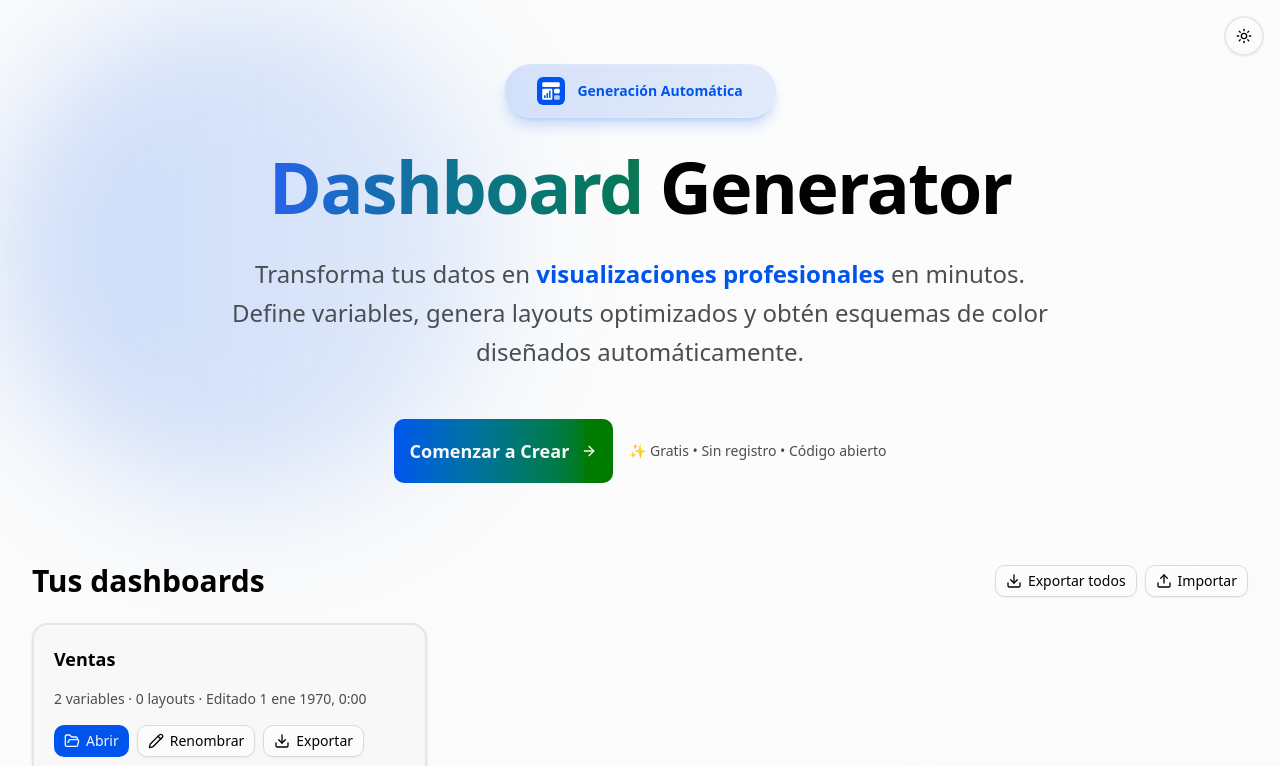
it: saved dashboards on the landing › opens a saved dashboard in the builder
Click the button with aria-label "Abrir Ventas" at (91, 741), box x1=54 y1=725 x2=129 y2=757
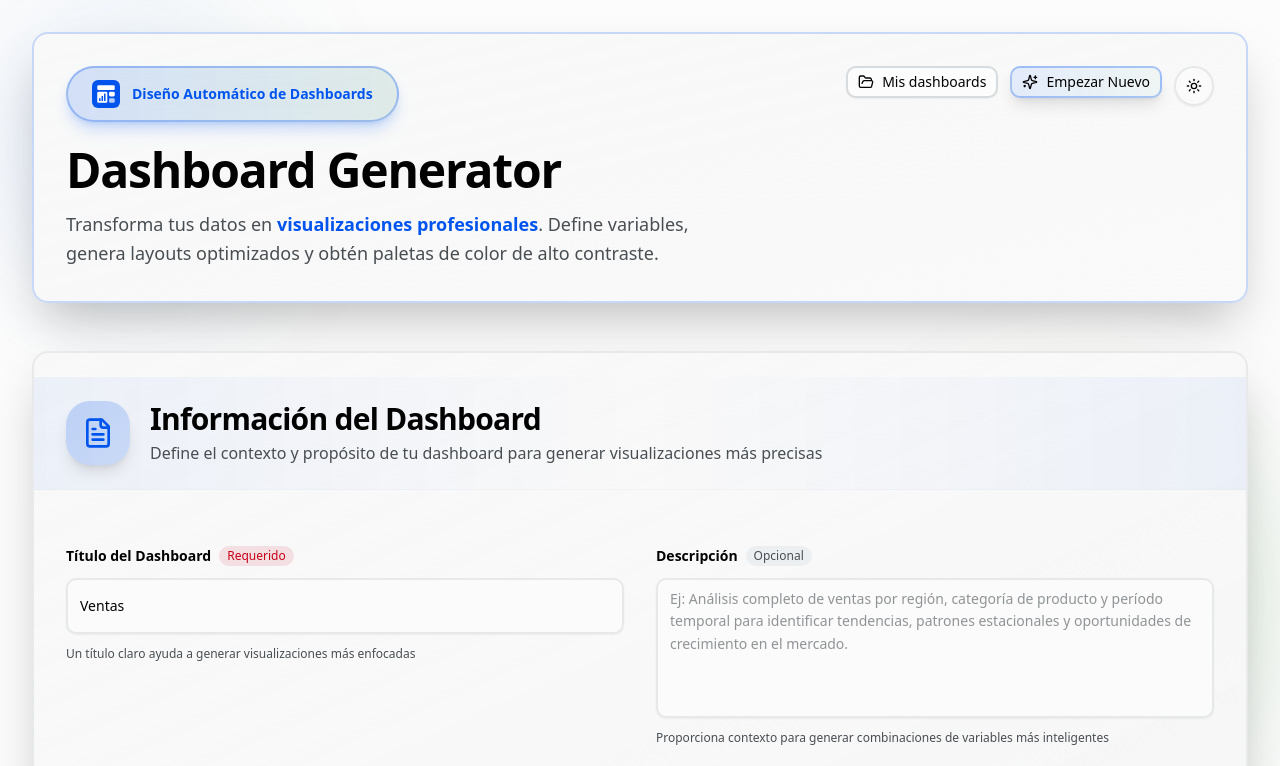
expect the field showing "Ventas" is shown: met, box x1=66 y1=578 x2=624 y2=634
